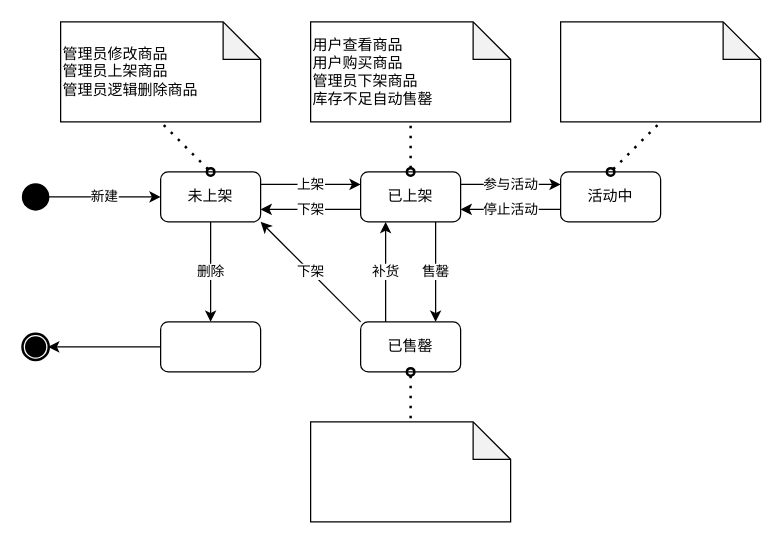
The diagram is 783 pixels wide and 544 high, and some of its shapes have lost their labels. The shapes that lost their labels are listed below. From the top down, each one's centre as x and y in pixels, then its label:
At (660,71): "用户作为普通商品购买 用户参加商品活动 活动正常结束 管理员终止或暂停活动".
At (210,346): "已删除".
At (410,471): "用户查看商品 管理员补货（仅改库存） 管理员下架商品".
